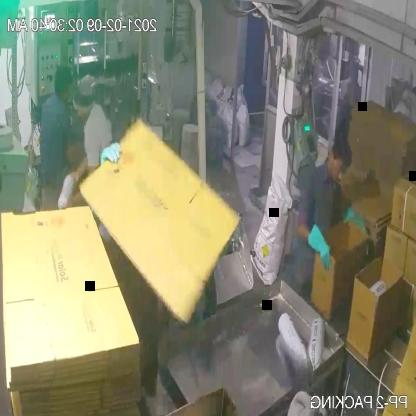glove: (301, 217, 333, 276), (341, 208, 370, 242)
no_glove: (62, 147, 95, 191)
